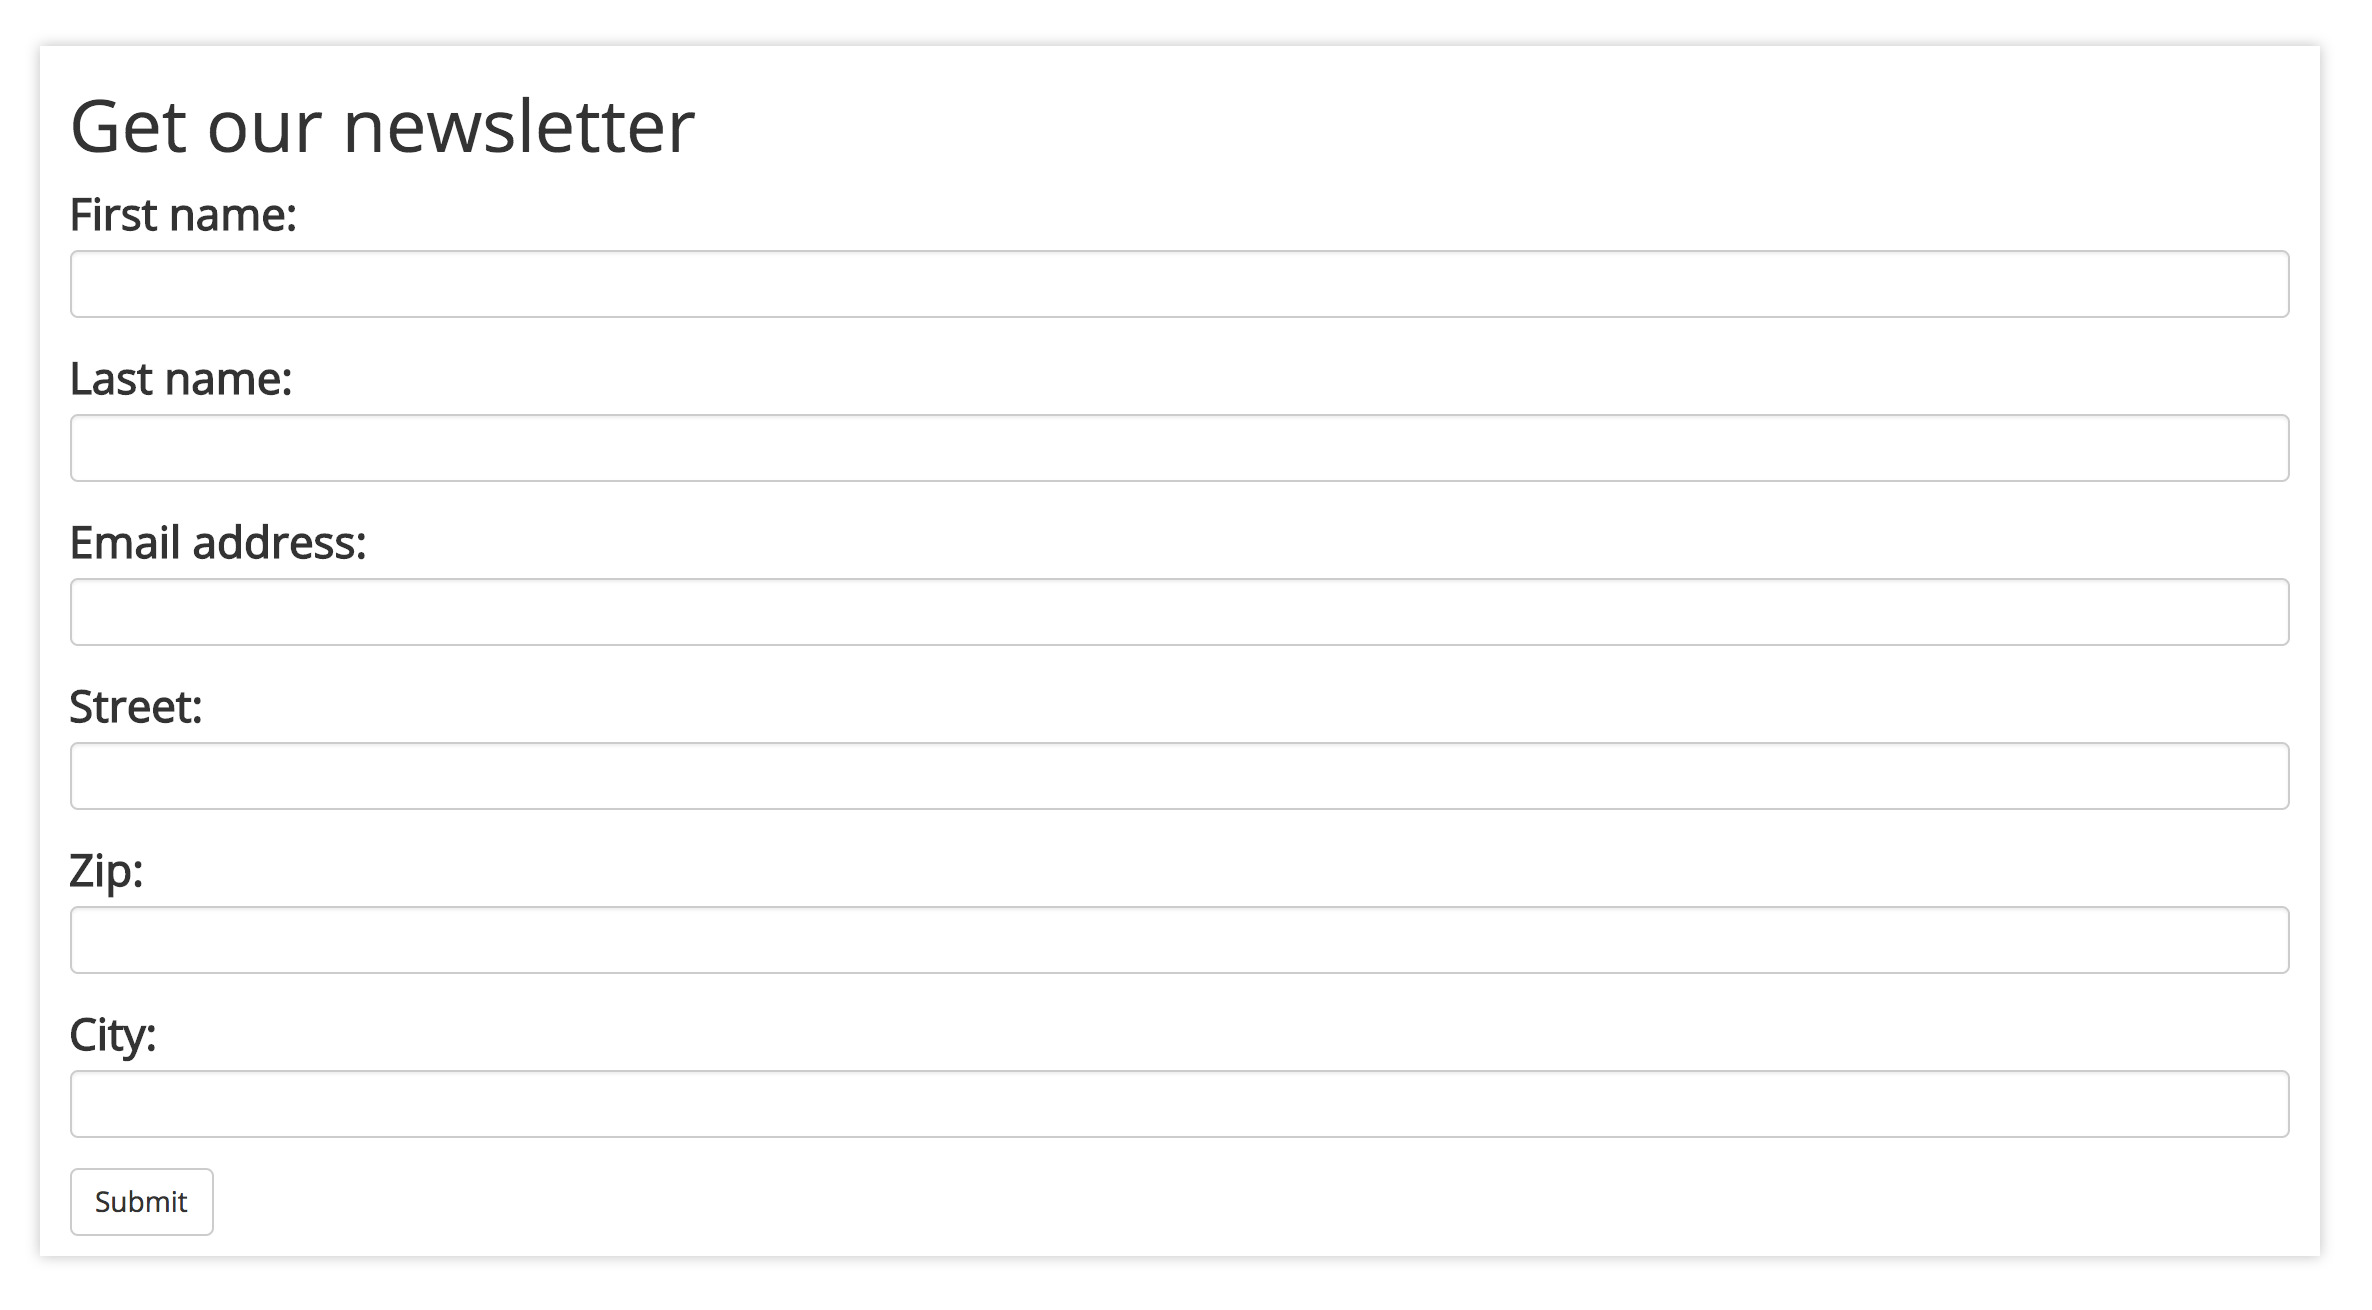_form_: (53, 679, 2311, 1158), (50, 831, 2306, 1310), (52, 184, 2307, 661)
button: (69, 1166, 219, 1236)
field: (69, 569, 2290, 653), (65, 244, 2290, 324), (68, 407, 2290, 486), (69, 737, 2290, 815), (65, 900, 2287, 976), (65, 1066, 2288, 1141)
